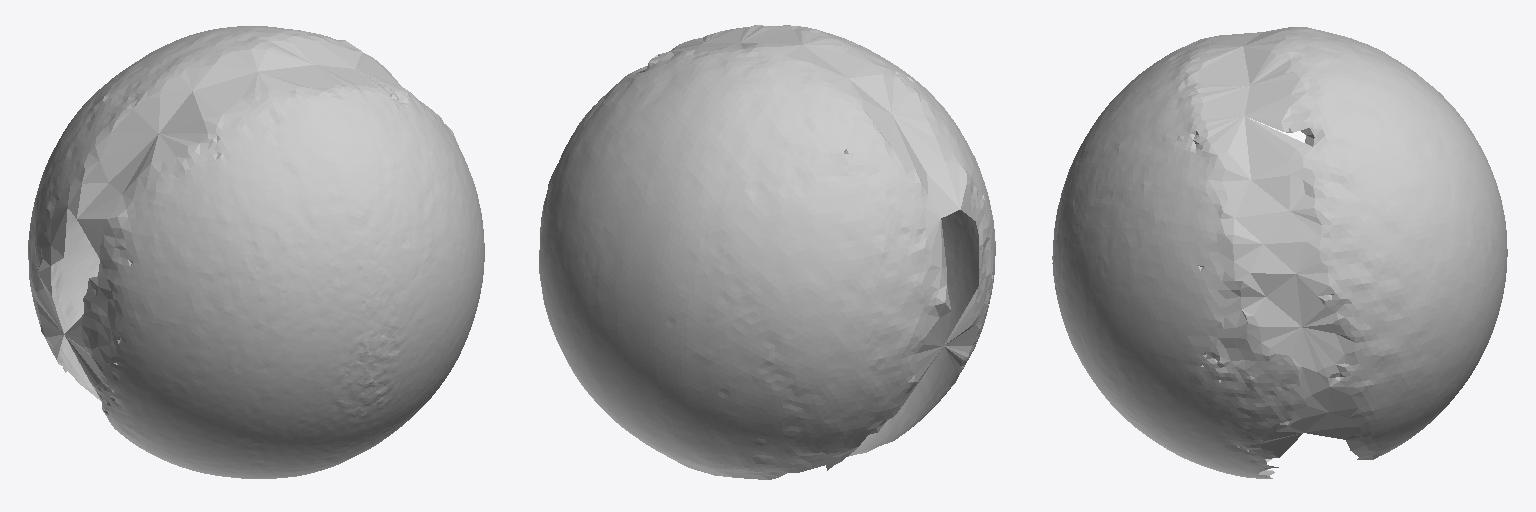
Rendered from Gridtest_0_0_1.000001.obj.
3 views of the same model, side by side, from view 1: azimuth 30°, elevation 25°; view 2: azimuth 150°, elevation 25°; view 3: azimuth 270°, elevation 25° (orthographic).
Bounding box in the file's own units: 300 × 303 × 299.